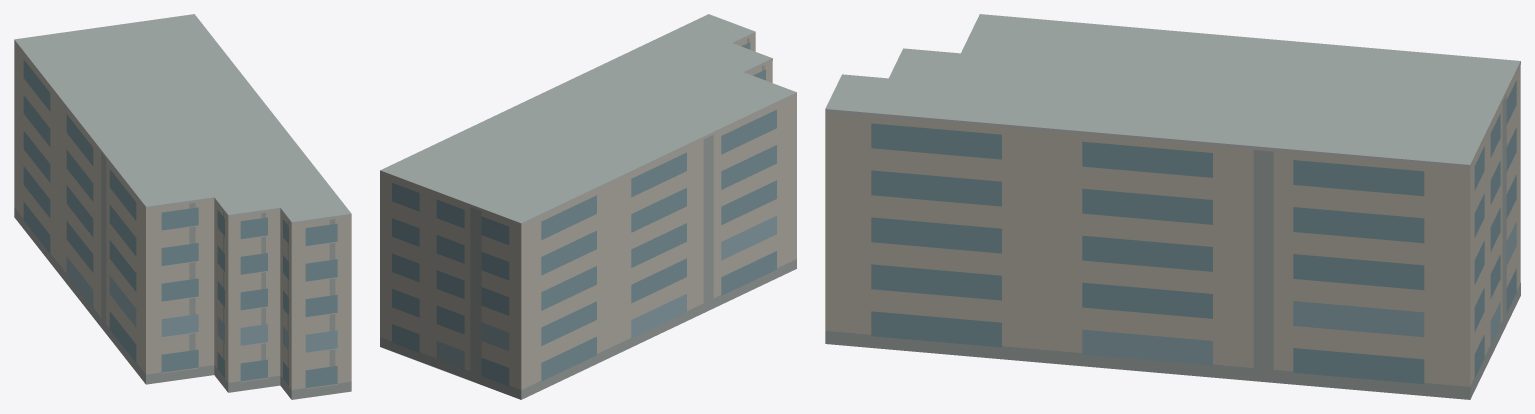
File: residential-fcba55f9-9c5e-4954-83d9-caf9fe2b5121.glb
3 renders of one model, left to right at view 1: azimuth 30°, elevation 25°; view 2: azimuth 150°, elevation 25°; view 3: azimuth 270°, elevation 25°, orthographic. The views are drawn at different scales.
Parts seen in each view (by area): view 1: residential-fcba55f9-9c5e-4954-83d9-caf9fe2b5121.tmp; view 2: residential-fcba55f9-9c5e-4954-83d9-caf9fe2b5121.tmp; view 3: residential-fcba55f9-9c5e-4954-83d9-caf9fe2b5121.tmp.
Boxes of the visible parts, left/top/right/bottom form: residential-fcba55f9-9c5e-4954-83d9-caf9fe2b5121.tmp: left=14, top=14, right=351, bottom=399; residential-fcba55f9-9c5e-4954-83d9-caf9fe2b5121.tmp: left=380, top=14, right=796, bottom=399; residential-fcba55f9-9c5e-4954-83d9-caf9fe2b5121.tmp: left=825, top=14, right=1520, bottom=399.
Size of the model in its own units: 21.02 by 15.25 by 40.92.
